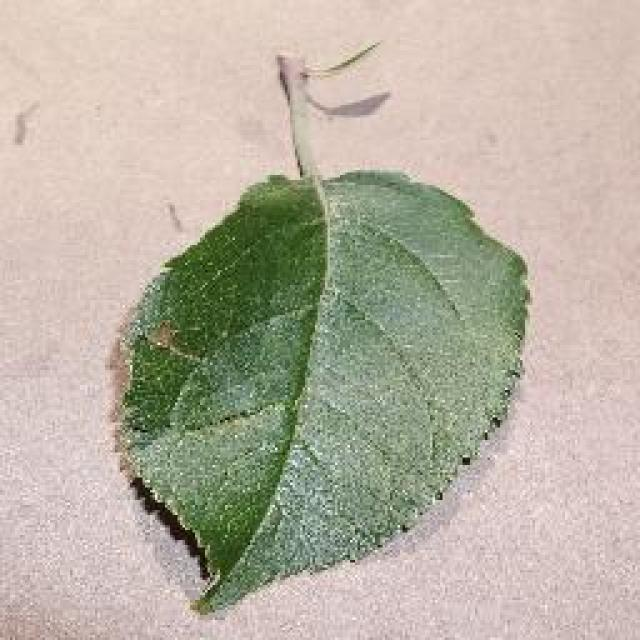apple healthy: (108, 38, 532, 618)
